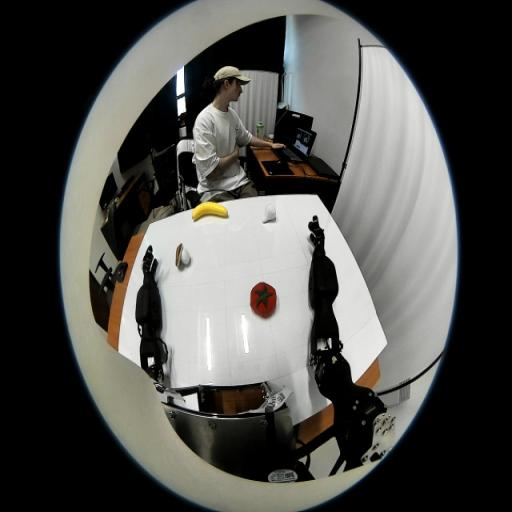Banana: (192, 201, 228, 221)
LeftHand: (143, 265, 153, 277)
Mushroom: (175, 243, 190, 268)
Onion: (262, 204, 276, 224)
RightHand: (314, 235, 324, 250)
Tomato: (250, 282, 277, 318)
